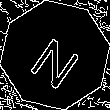N_NE: (24, 23, 86, 87)
